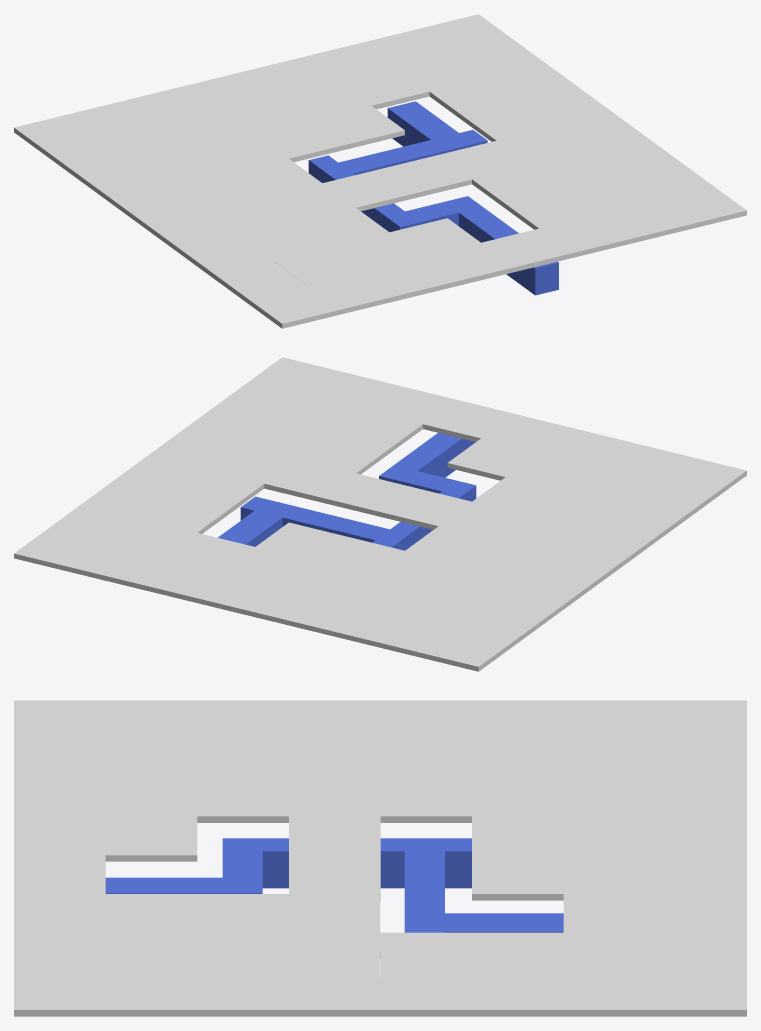
The model's file is map.fbx.
The picture shows the model from 3 angles, top to bottom: view 1: azimuth 30°, elevation 25°; view 2: azimuth 150°, elevation 25°; view 3: azimuth 270°, elevation 25°; orthographic projection. The views are drawn at different scales.
Parts seen in each view (by area): view 1: Cube.001, road_90deg, road_straight.003, road_t.006, road_straight.009, road_straight.010, road_straight.002, road_90deg.009, road_t.005, road_90deg.007, road_straight.007, road_90deg.010 (+46 smaller); view 2: Cube.001, road_90deg.020, road_straight.014, road_90deg.001, road_90deg.005, road_90deg.012, road_straight.007, road_t.015, road_straight.015, road_90deg.018, road_straight.012, road_round.001 (+46 smaller); view 3: Cube.001, road_90deg.013, road_t.003, road_round.001, road_90deg.003, road_90deg.007, road_90deg.008, road_90deg.009, road_90deg.016, road_straight.008, road_straight.012, road_t.008 (+46 smaller).
Boxes of the visible parts, left/top/right/bottom form: Cube.001: left=308, top=101, right=558, bottom=295; road_90deg: left=248, top=285, right=340, bottom=328; road_straight.003: left=365, top=257, right=456, bottom=300; road_t.006: left=539, top=214, right=630, bottom=257; road_straight.009: left=597, top=200, right=688, bottom=243; road_straight.010: left=481, top=228, right=572, bottom=271; road_straight.002: left=307, top=271, right=398, bottom=314; road_90deg.009: left=655, top=186, right=746, bottom=229; road_t.005: left=423, top=243, right=514, bottom=285; road_90deg.007: left=314, top=106, right=404, bottom=149; road_straight.007: left=381, top=155, right=471, bottom=198; road_90deg.010: left=338, top=67, right=429, bottom=109; Cube.001: left=218, top=433, right=476, bottom=550; road_90deg.020: left=420, top=628, right=512, bottom=671; road_straight.014: left=304, top=600, right=395, bottom=643; road_90deg.001: left=130, top=557, right=221, bottom=600; road_90deg.005: left=264, top=459, right=355, bottom=502; road_90deg.012: left=72, top=543, right=163, bottom=586; road_straight.007: left=322, top=473, right=413, bottom=516; road_t.015: left=188, top=571, right=279, bottom=614; road_straight.015: left=362, top=614, right=453, bottom=657; road_90deg.018: left=246, top=586, right=337, bottom=628; road_straight.012: left=14, top=529, right=105, bottom=572; road_round.001: left=447, top=438, right=538, bottom=480; Cube.001: left=105, top=838, right=563, bottom=932; road_90deg.013: left=563, top=971, right=655, bottom=1016; road_t.003: left=105, top=971, right=197, bottom=1016; road_round.001: left=105, top=816, right=197, bottom=861; road_90deg.003: left=197, top=777, right=288, bottom=822; road_90deg.007: left=472, top=855, right=563, bottom=900; road_90deg.008: left=197, top=971, right=288, bottom=1016; road_90deg.009: left=14, top=971, right=105, bottom=1016; road_90deg.016: left=380, top=971, right=471, bottom=1016; road_straight.008: left=289, top=971, right=380, bottom=1016; road_straight.012: left=655, top=971, right=746, bottom=1016; road_t.008: left=472, top=971, right=563, bottom=1016.
Bounding box in the file's own units: 16000 × 1097 × 16000.
